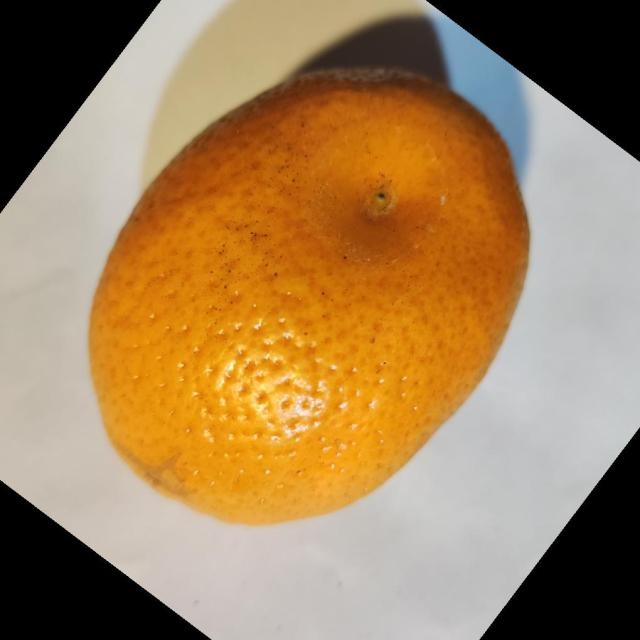agrume: (86, 65, 531, 527)
